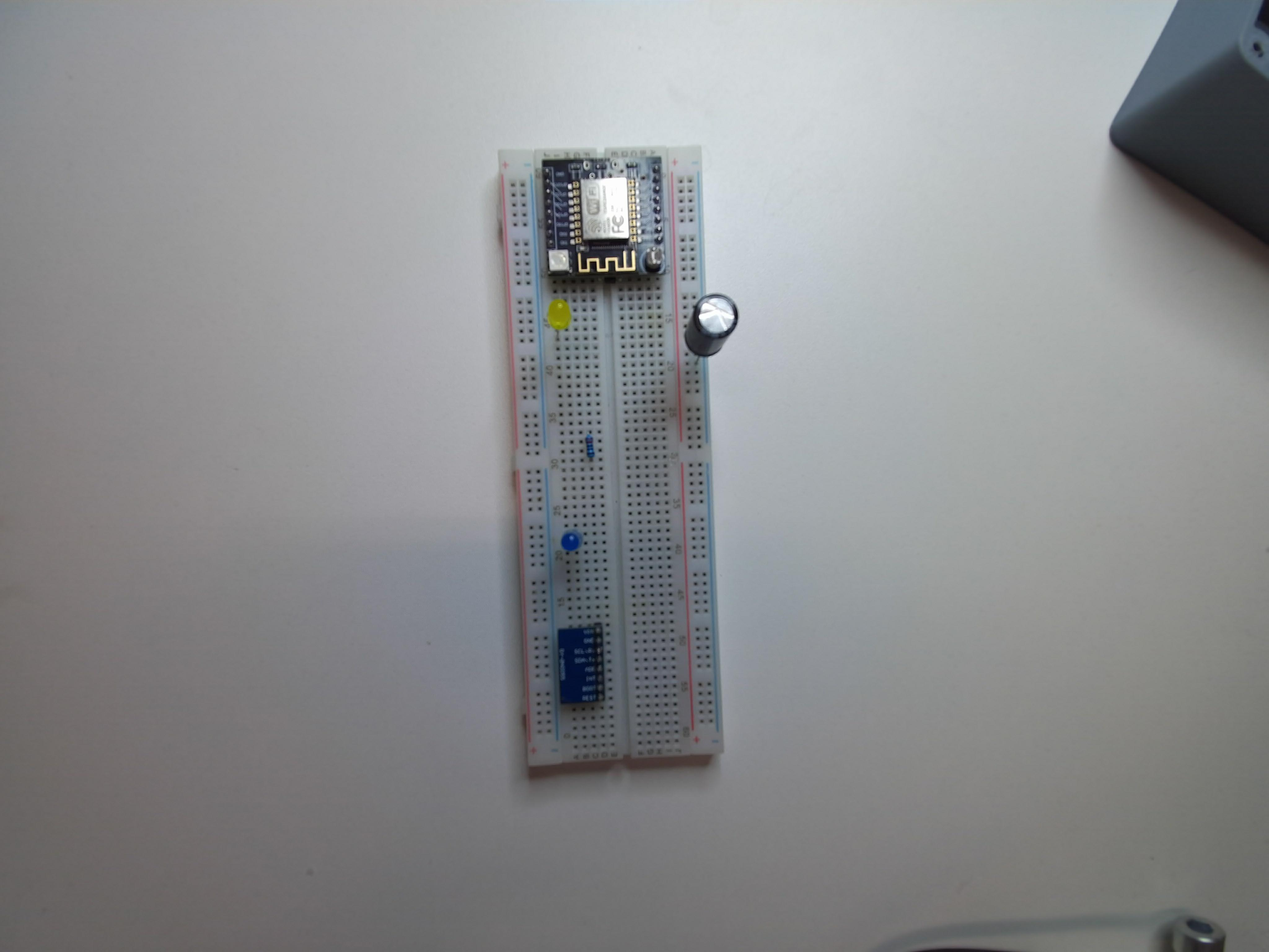base: (494, 144, 728, 779)
blue-board: (553, 621, 611, 706)
blue-led: (560, 531, 580, 552)
capacitor: (680, 290, 744, 365)
esp: (539, 155, 669, 282)
resistor-small: (584, 433, 597, 460)
yellow-led: (545, 296, 571, 329)
